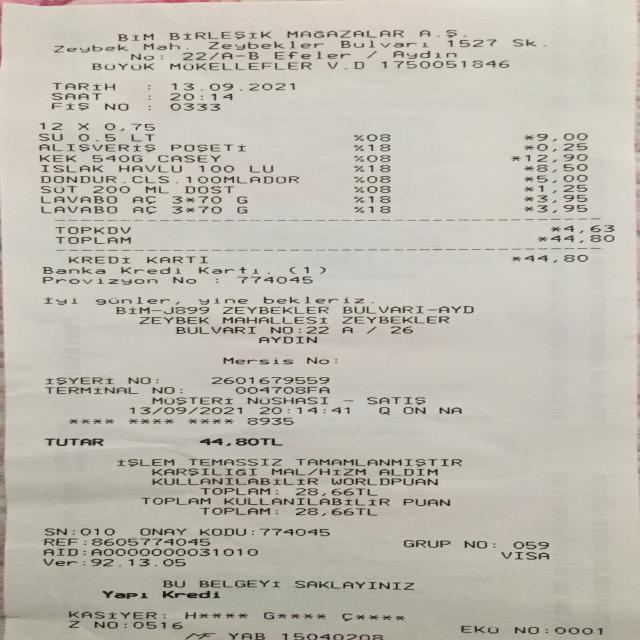text: (223, 496, 387, 506), (90, 547, 257, 556), (169, 60, 310, 70), (295, 458, 460, 466), (152, 477, 316, 485), (380, 59, 508, 69), (40, 174, 168, 184), (41, 275, 156, 286), (171, 81, 293, 91), (91, 537, 209, 547), (206, 40, 322, 50), (210, 376, 328, 385), (295, 580, 412, 589), (286, 29, 402, 38), (185, 175, 298, 184), (129, 406, 241, 415), (263, 295, 362, 305), (338, 38, 427, 49), (341, 315, 447, 324), (234, 385, 329, 395), (221, 315, 326, 324), (43, 385, 137, 395), (39, 143, 154, 151), (95, 558, 183, 568), (164, 31, 272, 39), (221, 306, 327, 314), (331, 477, 436, 485), (152, 468, 256, 476), (236, 275, 311, 286), (52, 42, 126, 53), (341, 305, 422, 315), (281, 632, 382, 640), (259, 406, 348, 415), (67, 610, 155, 619), (272, 50, 349, 60), (259, 527, 329, 538), (199, 437, 281, 446), (294, 487, 376, 496), (294, 507, 376, 516), (188, 458, 280, 466), (95, 295, 168, 305), (175, 325, 255, 334), (198, 579, 278, 588), (152, 396, 231, 405), (138, 315, 206, 325), (41, 195, 116, 204), (41, 205, 116, 214), (54, 235, 129, 244), (170, 143, 243, 152), (390, 49, 454, 59), (51, 81, 114, 91), (222, 356, 292, 365), (140, 496, 209, 505), (45, 376, 112, 385), (169, 100, 219, 112), (54, 226, 129, 234), (549, 234, 614, 243), (157, 154, 220, 163), (162, 589, 218, 599), (170, 92, 232, 101), (200, 487, 268, 495), (200, 507, 268, 515), (140, 526, 185, 538), (89, 62, 156, 70), (447, 37, 495, 48), (366, 396, 424, 405), (534, 142, 586, 152), (258, 335, 315, 344), (522, 254, 586, 262), (198, 527, 244, 538), (51, 91, 101, 101), (119, 165, 181, 173), (524, 154, 586, 162), (42, 266, 104, 274), (104, 122, 153, 132), (41, 165, 102, 173), (68, 256, 128, 264), (146, 256, 206, 264), (500, 550, 548, 560), (197, 266, 256, 274), (198, 295, 245, 305), (120, 266, 178, 274), (44, 438, 102, 446), (417, 28, 463, 38), (162, 305, 208, 315), (246, 416, 292, 426), (379, 468, 436, 476), (101, 589, 146, 599), (116, 458, 172, 466), (563, 224, 612, 233), (132, 620, 181, 629), (404, 539, 448, 549), (554, 626, 601, 635), (79, 526, 114, 538), (141, 41, 179, 52), (534, 174, 586, 182), (534, 194, 586, 202), (534, 204, 586, 212), (40, 296, 81, 306), (326, 59, 362, 70), (46, 101, 90, 110), (92, 154, 141, 162), (537, 184, 585, 192), (185, 185, 232, 193), (402, 498, 448, 506), (534, 133, 586, 140), (534, 164, 586, 171), (116, 32, 152, 42), (78, 132, 114, 142), (436, 304, 472, 314), (319, 468, 364, 476), (461, 624, 496, 634), (43, 537, 77, 547), (43, 557, 77, 567), (513, 540, 547, 550), (43, 547, 77, 556), (38, 154, 76, 162), (180, 631, 217, 639), (103, 100, 127, 112), (40, 185, 76, 193), (93, 185, 129, 193), (228, 632, 264, 640), (510, 36, 533, 48), (199, 165, 233, 173), (271, 468, 305, 476), (44, 526, 66, 538), (181, 50, 204, 61), (172, 275, 195, 286), (128, 51, 152, 61), (130, 132, 153, 142), (39, 121, 61, 131), (306, 355, 328, 365), (464, 540, 486, 550), (38, 132, 62, 141), (132, 205, 156, 214), (152, 385, 173, 395), (132, 195, 155, 204), (198, 195, 220, 204), (270, 325, 292, 334), (306, 325, 328, 334), (390, 325, 412, 334), (128, 376, 150, 385), (402, 406, 424, 415), (438, 406, 460, 415), (145, 185, 168, 193), (249, 165, 271, 173), (366, 133, 388, 141), (94, 620, 116, 628), (514, 626, 536, 634), (201, 206, 223, 214), (368, 164, 389, 172), (162, 579, 183, 587), (366, 175, 388, 182), (366, 185, 388, 192), (366, 195, 388, 202), (366, 205, 388, 212), (366, 144, 389, 150), (366, 155, 388, 161), (208, 50, 218, 61), (221, 50, 231, 61), (247, 50, 257, 61), (78, 122, 88, 132), (234, 50, 243, 61), (523, 143, 534, 152), (171, 195, 181, 204), (236, 195, 246, 204), (171, 205, 181, 214), (184, 205, 194, 214), (236, 205, 246, 214), (509, 154, 519, 163), (549, 224, 559, 233), (536, 234, 546, 243), (150, 306, 160, 315), (426, 305, 436, 314), (342, 325, 352, 334), (366, 49, 374, 60), (522, 133, 533, 141), (262, 612, 273, 620), (343, 396, 352, 405), (379, 406, 388, 415), (352, 133, 362, 141), (352, 164, 362, 172), (522, 164, 532, 172), (509, 254, 519, 262), (184, 611, 194, 619), (68, 620, 78, 628), (366, 325, 374, 334), (307, 468, 316, 476), (184, 197, 196, 203), (352, 185, 362, 192), (522, 185, 532, 192), (522, 195, 532, 202), (522, 205, 532, 212), (353, 175, 362, 182), (353, 195, 362, 202), (353, 205, 362, 212), (523, 175, 532, 182), (352, 144, 362, 150), (352, 155, 362, 161), (82, 557, 88, 567), (318, 265, 324, 274), (288, 266, 294, 274), (302, 265, 307, 274), (82, 547, 85, 556), (72, 526, 74, 538), (162, 611, 165, 619), (160, 50, 162, 61), (214, 275, 216, 286), (251, 527, 253, 538), (333, 355, 335, 365), (179, 385, 181, 395), (83, 537, 85, 547), (175, 174, 177, 183), (298, 325, 300, 334), (155, 376, 157, 385), (544, 626, 546, 634), (186, 40, 187, 52), (371, 295, 372, 304), (266, 266, 267, 274), (124, 620, 125, 628)
